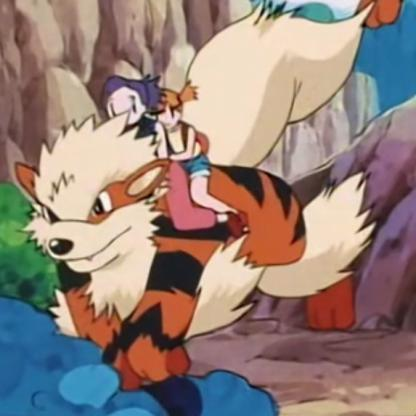Arcanine: (7, 24, 375, 392)
